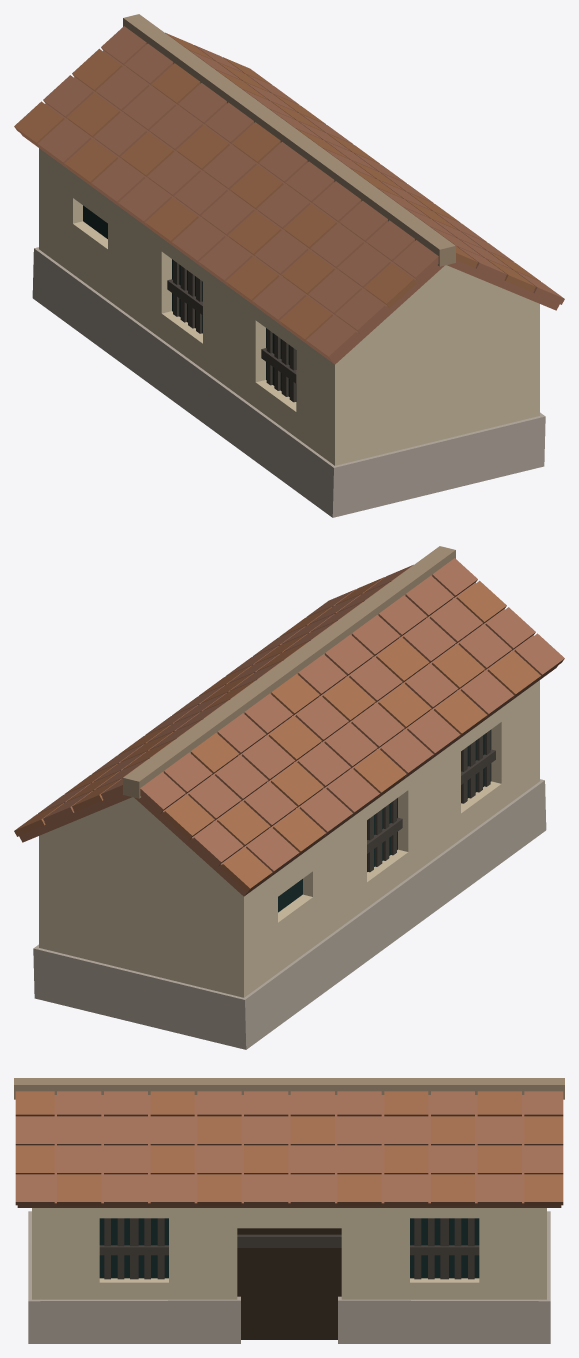
The model's file is Building_mode_L2_Northhouse012.fbx.
3 renders of one model, top to bottom at view 1: azimuth 30°, elevation 25°; view 2: azimuth 150°, elevation 25°; view 3: azimuth 270°, elevation 25°, orthographic. The views are drawn at different scales.
Visible parts, largest first — view 1: Building_mode_L2_Northhouse012; view 2: Building_mode_L2_Northhouse012; view 3: Building_mode_L2_Northhouse012.
Part boxes in pixels (x1=…): Building_mode_L2_Northhouse012: x1=14, y1=14, x2=564, y2=517; Building_mode_L2_Northhouse012: x1=14, y1=546, x2=564, y2=1049; Building_mode_L2_Northhouse012: x1=14, y1=1078, x2=564, y2=1343.
Size of the model in its own units: 2.79 by 2.83 by 6.49.
